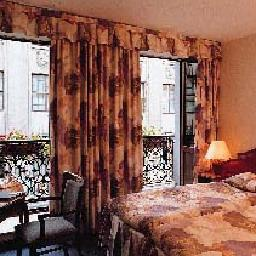Cama: (99, 168, 252, 252)
